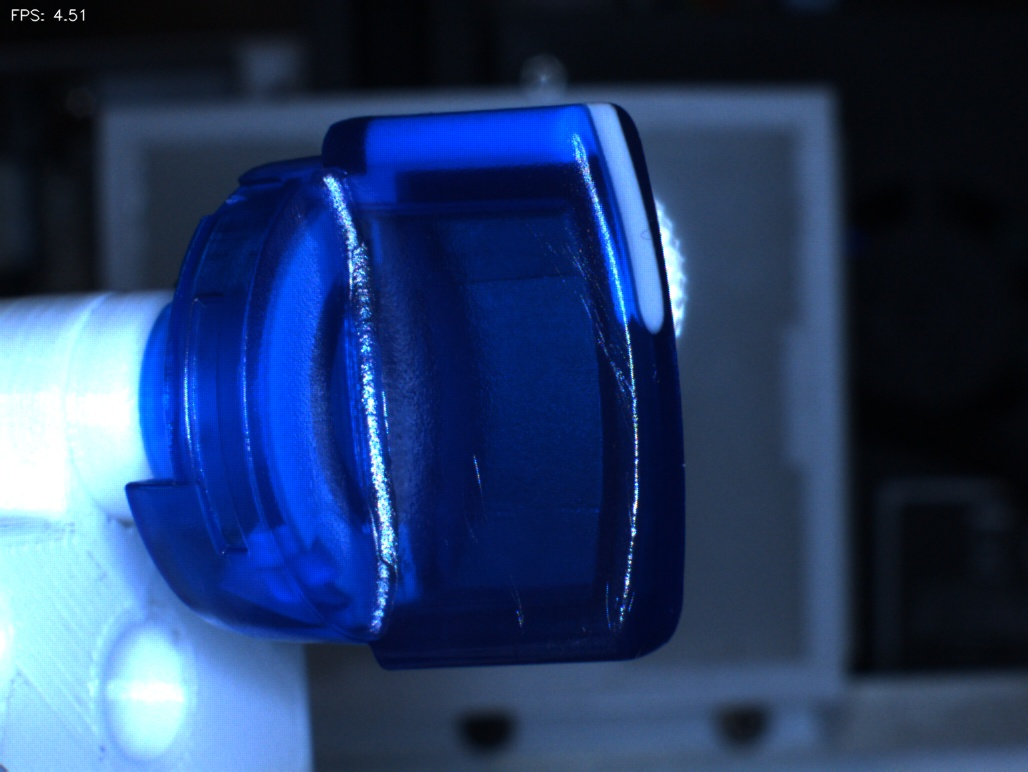Givrage: (448, 435, 542, 645), (543, 235, 627, 405), (586, 543, 654, 640)
